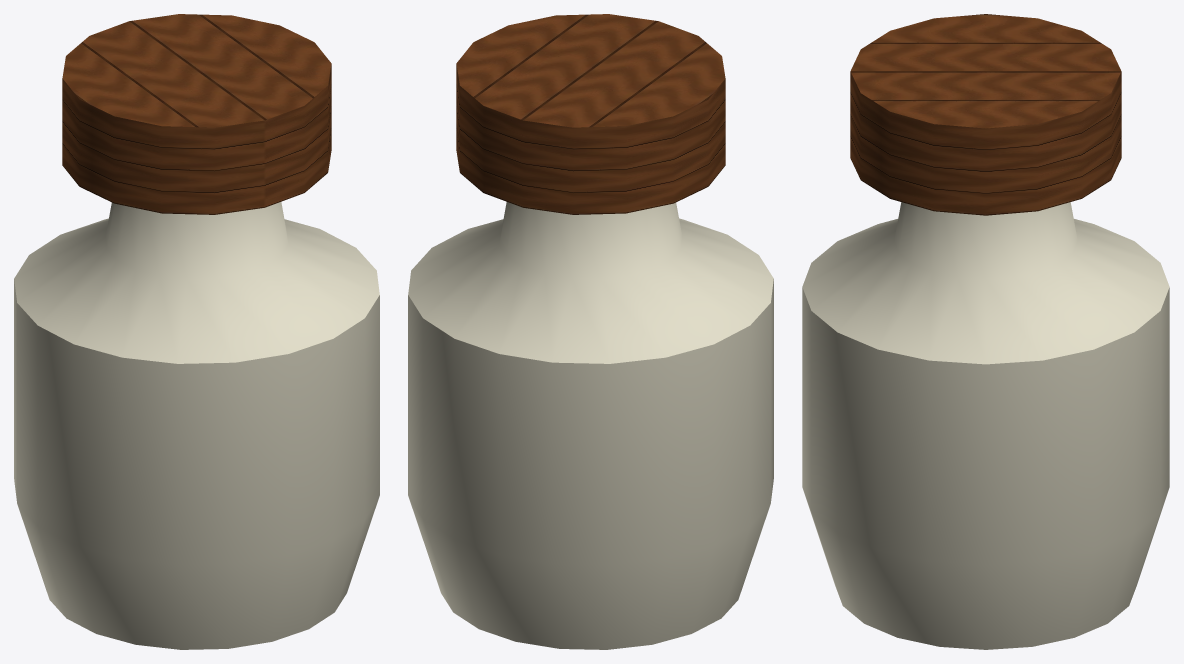
Rendered from survival-food-and-preservation-salt-jar-329e81e1__21771.glb.
The picture shows the model from 3 angles, left to right: view 1: azimuth 30°, elevation 25°; view 2: azimuth 150°, elevation 25°; view 3: azimuth 270°, elevation 25°; orthographic projection.
Visible parts, largest first — view 1: salt-jar; view 2: salt-jar; view 3: salt-jar.
Part boxes in pixels (x1,y1,x2,y2): salt-jar: [14, 14, 379, 649]; salt-jar: [408, 14, 773, 649]; salt-jar: [802, 14, 1169, 649].
Size of the model in its own units: 0.084 by 0.13 by 0.084.
3 materials, 1 textured.
